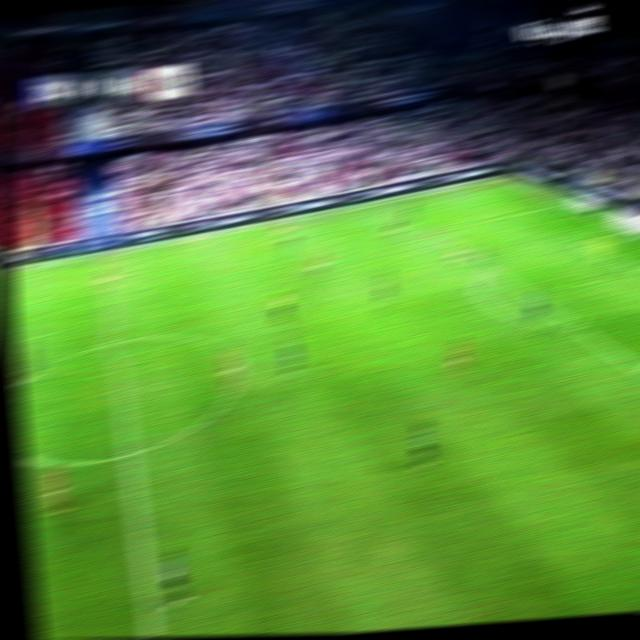bigarea_top_inner: (421, 224, 444, 239)
bigarea_top_outter: (548, 195, 576, 213)
bottom_arc_area_intersection: (564, 317, 586, 334)
corner: (487, 172, 515, 187)
halfcircle_bottom: (110, 436, 145, 470)
halfcircle_top: (97, 329, 129, 357)
midline_top_intersection: (88, 249, 122, 266)
smallarea_top_inner: (567, 233, 593, 249)
smallarea_top_outter: (610, 218, 640, 241)
top_arc_area_intersection: (476, 259, 499, 276)
